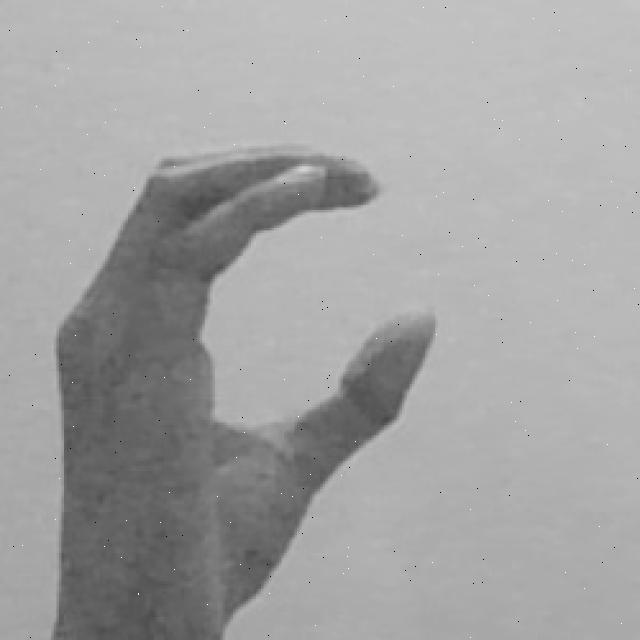C: (54, 141, 438, 640)
